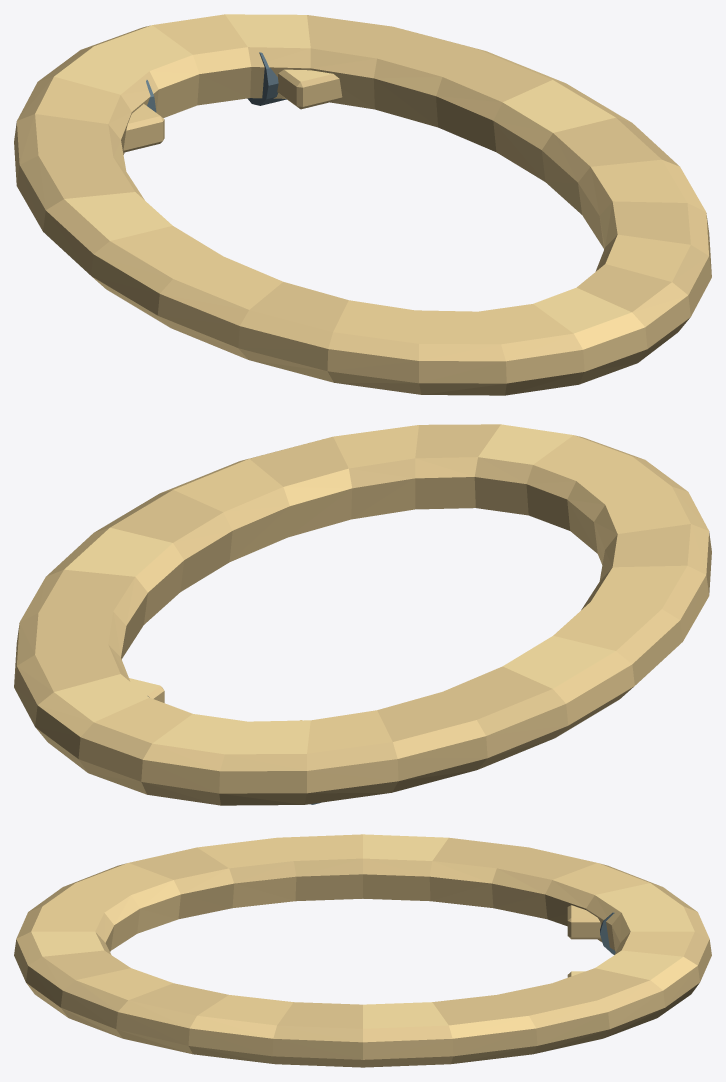
The model's file is EB_OvalSeat.fbx.
3 renders of one model, top to bottom at view 1: azimuth 30°, elevation 25°; view 2: azimuth 150°, elevation 25°; view 3: azimuth 270°, elevation 25°, orthographic. The views are drawn at different scales.
Visible parts, largest first — view 1: EB_OvalSeat; view 2: EB_OvalSeat; view 3: EB_OvalSeat.
Part boxes in pixels (<box>): EB_OvalSeat: <box>14,14,711,395</box>; EB_OvalSeat: <box>14,424,711,805</box>; EB_OvalSeat: <box>14,834,711,1067</box>.
Size of the model in its own units: 0.432 by 0.046 by 0.61.
